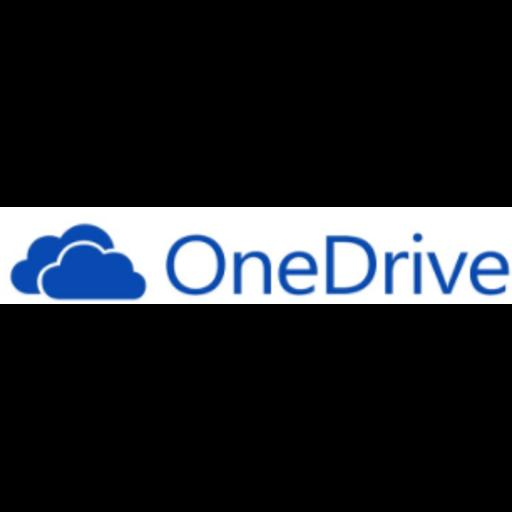Outlook: (0, 207, 512, 304)
